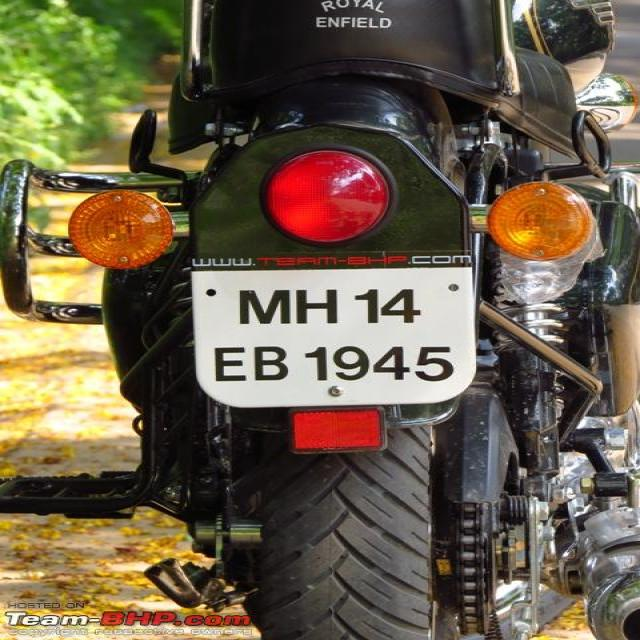number plate: (188, 260, 477, 408)
